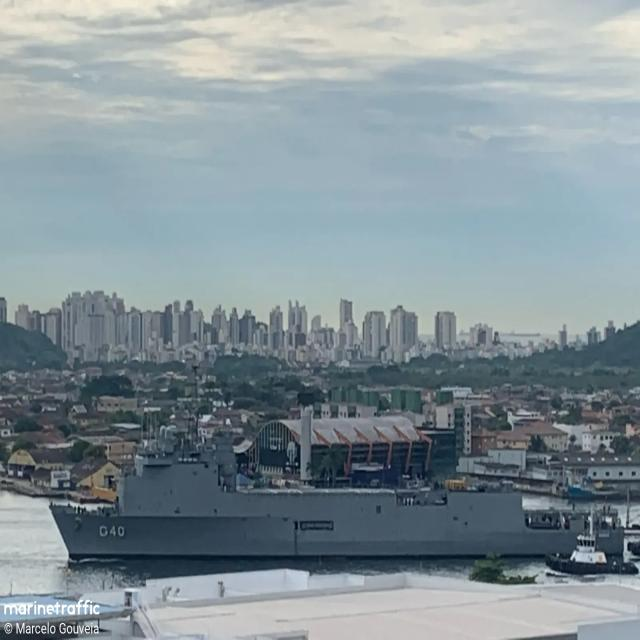Military: (47, 407, 625, 565)
Tug: (545, 509, 637, 574)
